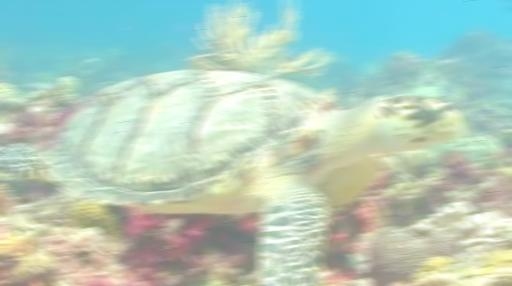Fish: (0, 70, 463, 285)
